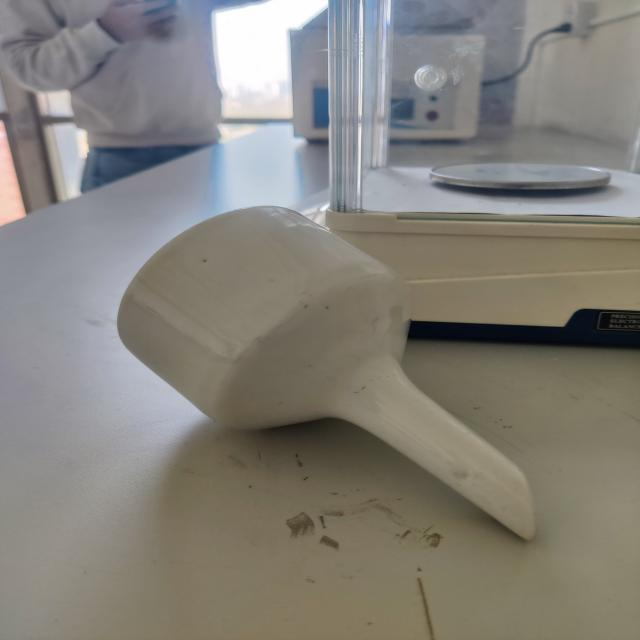Buchner_Funnel: (80, 136, 568, 574)
